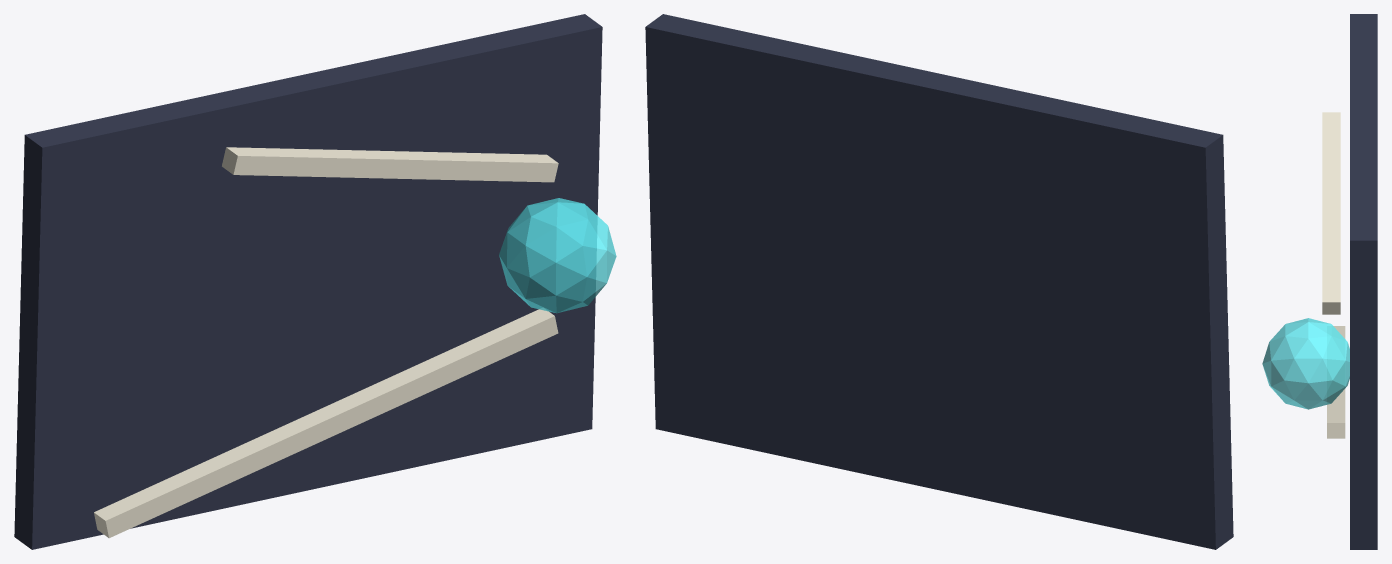
The model's file is 02_world_prop_polish.glb.
The picture shows the model from 3 angles, left to right: view 1: azimuth 30°, elevation 25°; view 2: azimuth 150°, elevation 25°; view 3: azimuth 270°, elevation 25°; orthographic projection. The views are drawn at different scales.
Parts seen in each view (by area): view 1: object_overlay_plate, edge_wear_a, glow_socket, edge_wear_b; view 2: object_overlay_plate; view 3: object_overlay_plate, glow_socket, edge_wear_b, edge_wear_a.
Boxes of the visible parts, x1,y1,x2,y2 form: object_overlay_plate: [14, 14, 602, 549]; edge_wear_a: [94, 308, 558, 538]; glow_socket: [499, 198, 616, 313]; edge_wear_b: [222, 147, 558, 182]; object_overlay_plate: [645, 14, 1233, 549]; object_overlay_plate: [1350, 14, 1377, 549]; glow_socket: [1262, 318, 1349, 409]; edge_wear_b: [1322, 112, 1340, 314]; edge_wear_a: [1327, 326, 1345, 438].
Size of the model in its own units: 1.12 by 0.7794 by 0.25.
